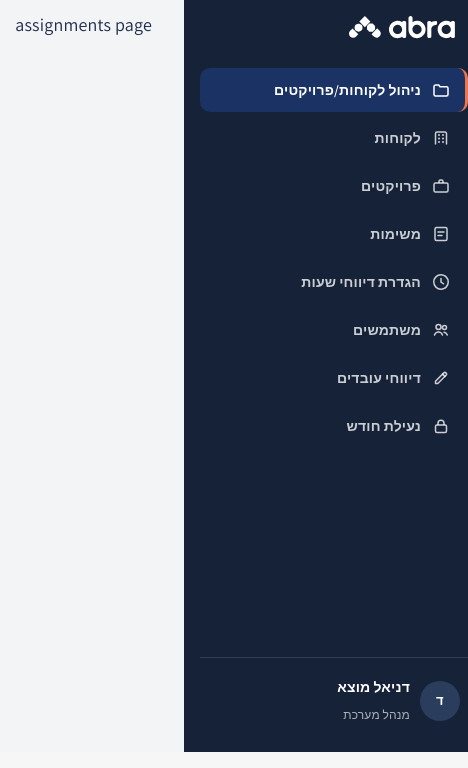
AdminShell › opens the account menu from the header avatar
This screenshot has width=468, height=768.
What coordinates should you click on to do the following:
click the button named "תפריט חשבון"
I would click on:
 (440, 701)
Its box is [420, 681, 460, 721].
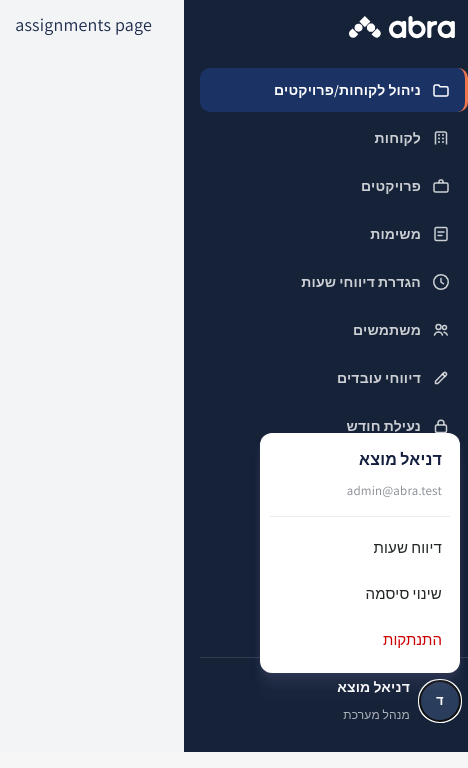
Expected: the menu is shown, [260, 433, 460, 673]
Expected: the menu item "דיווח שעות" is shown, [373, 538, 442, 557]
